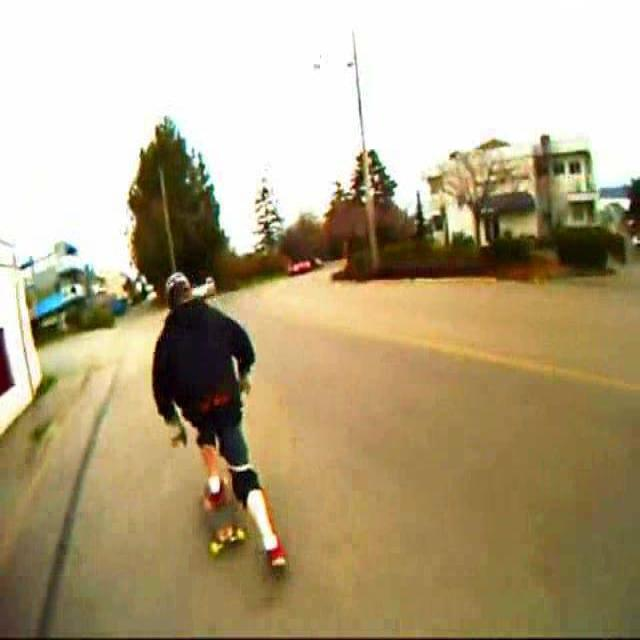other: (190, 454, 300, 596), (280, 254, 322, 291)
